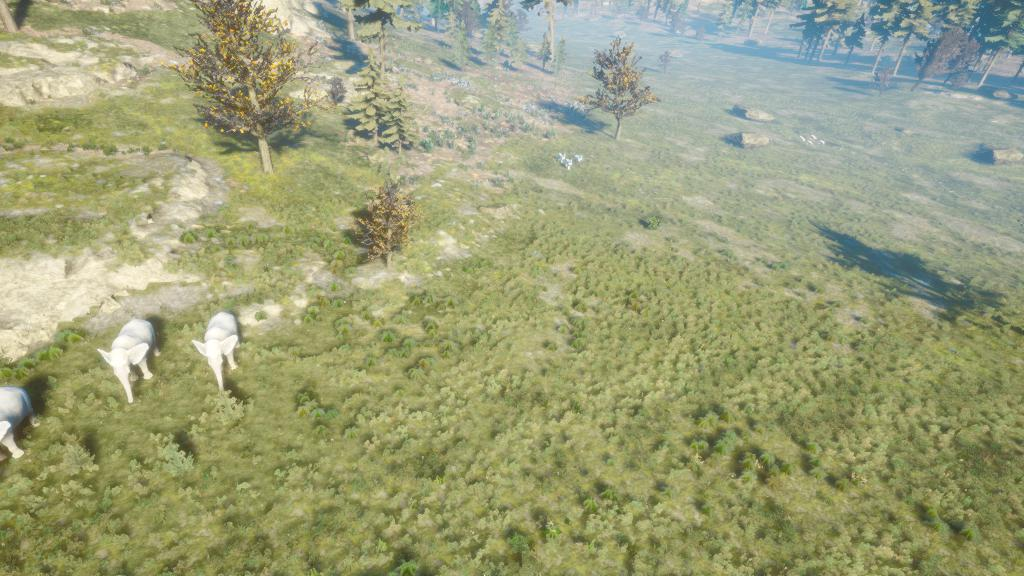elephant: (76, 313, 175, 404), (179, 308, 262, 399)
